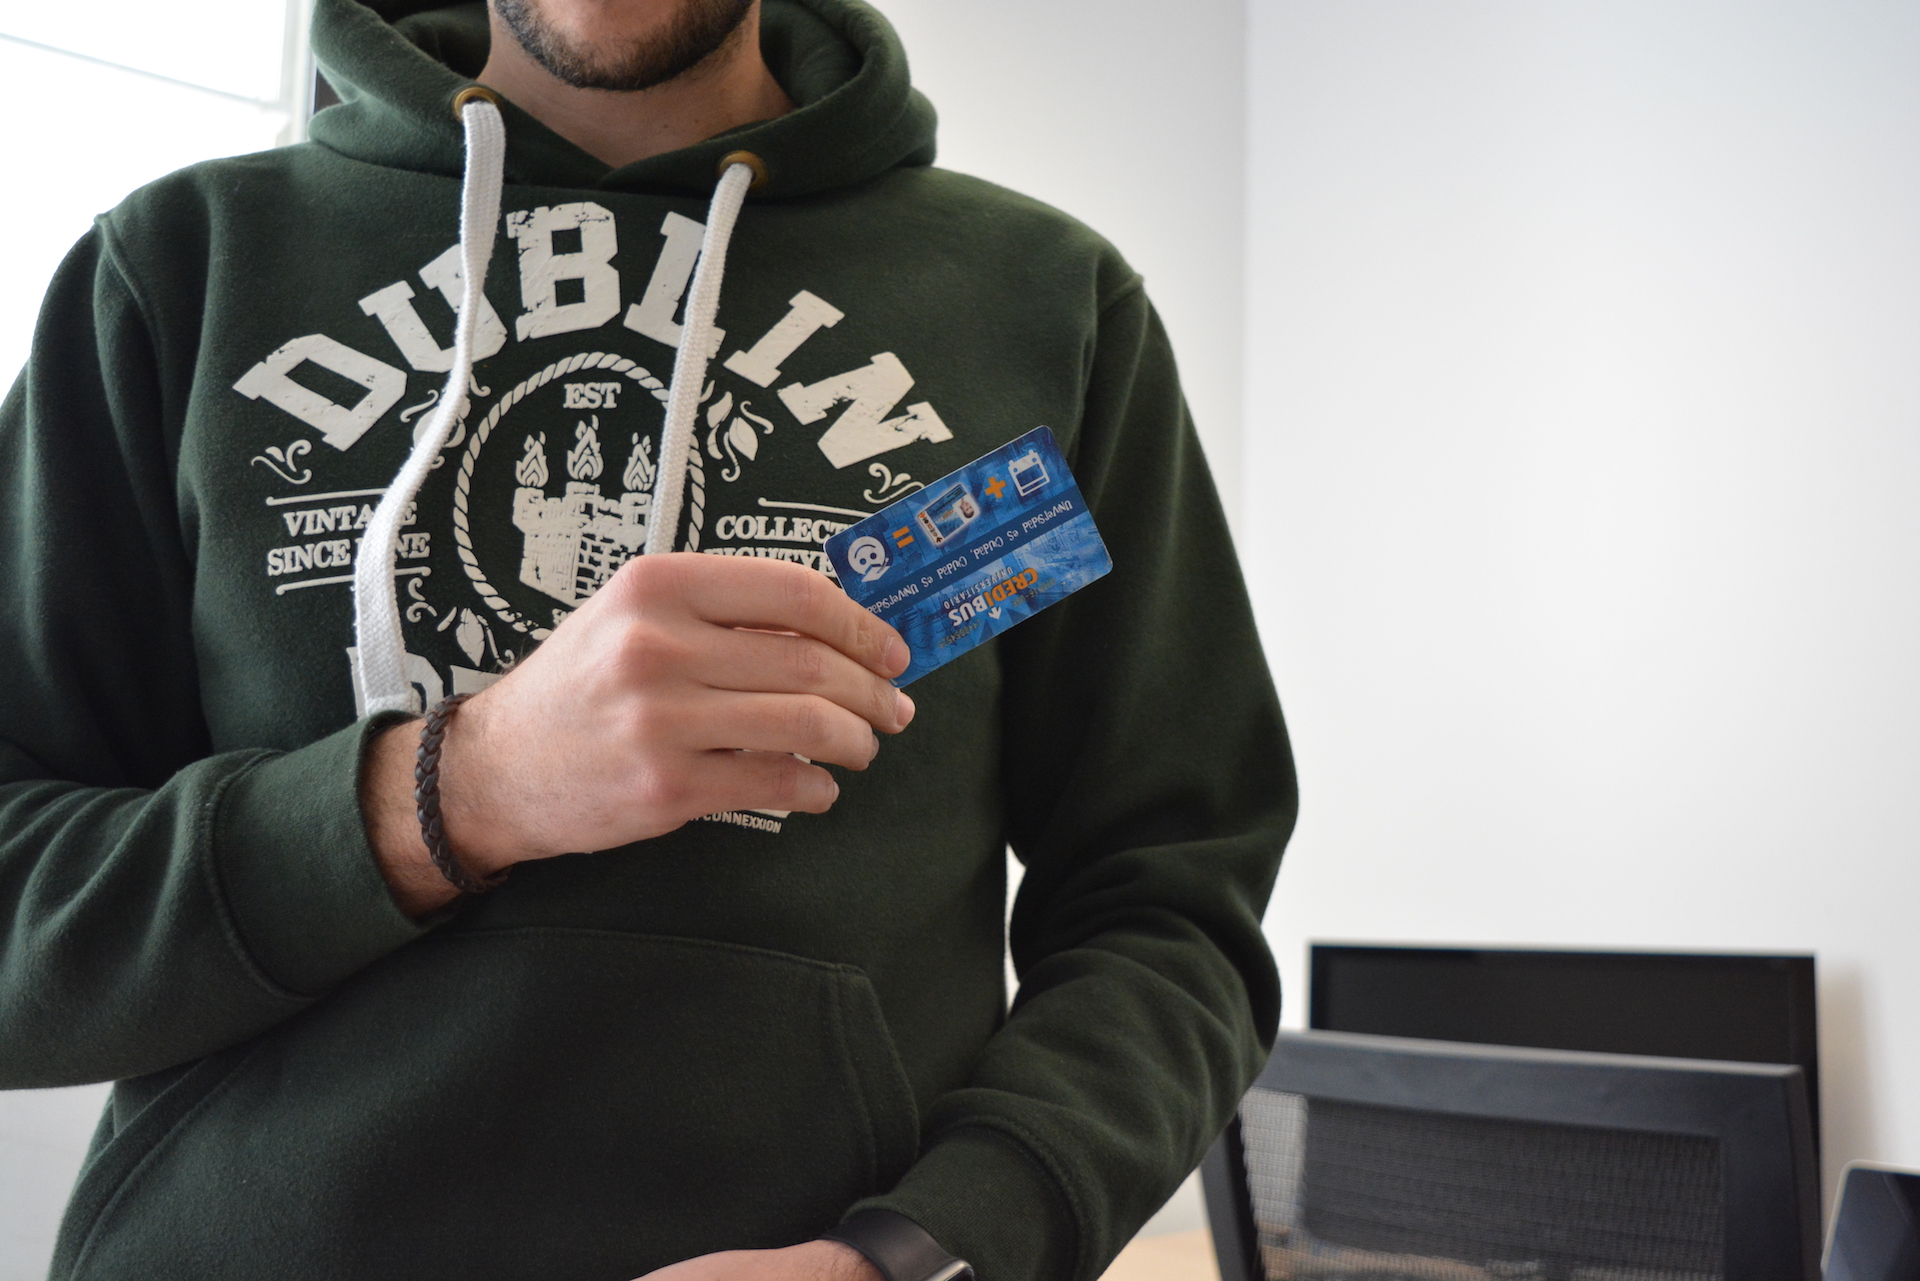tarjeta: (818, 423, 1118, 695)
